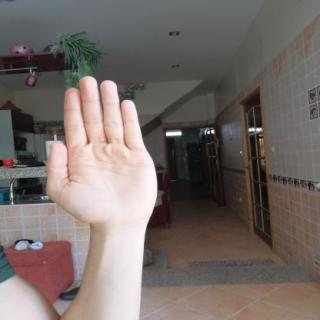SEEN: (36, 69, 166, 237)
